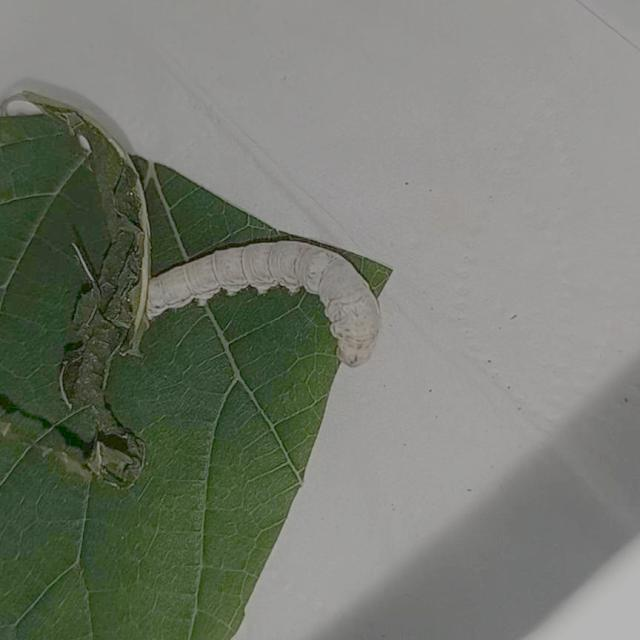Healthy: (134, 231, 392, 380)
